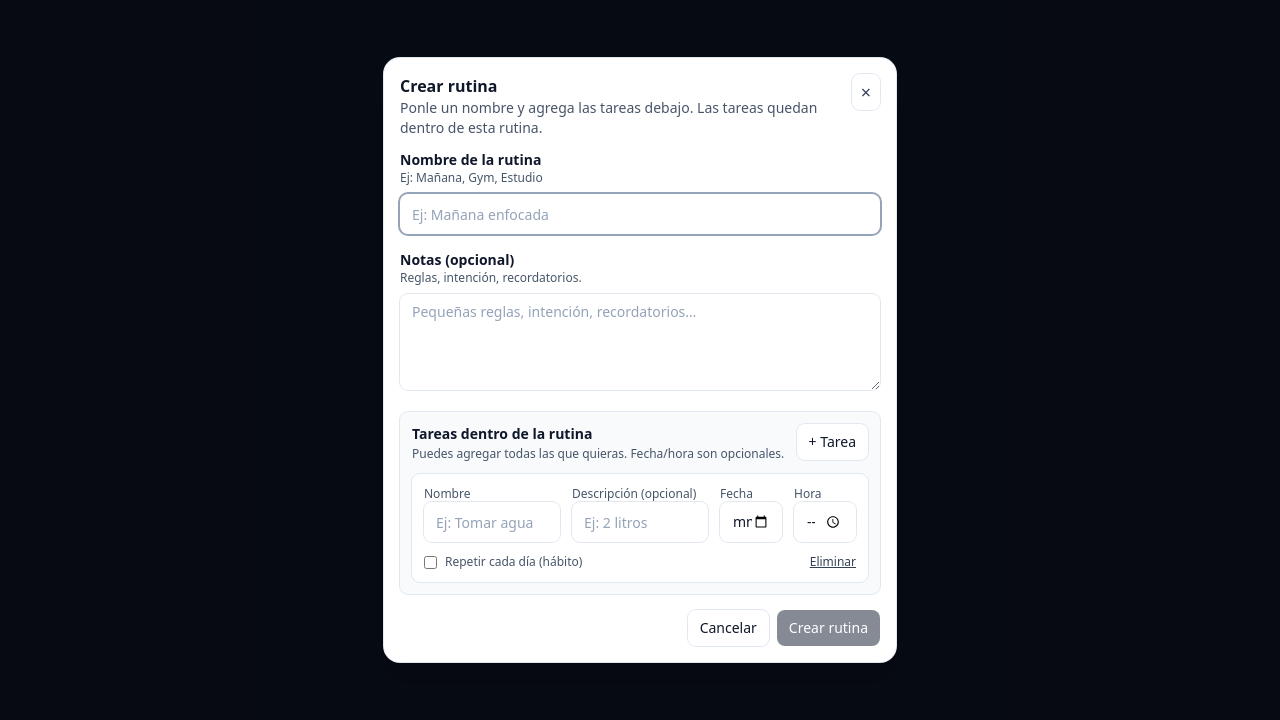
RoutineWizardModal › shows the specific error message when create fails with a real Error
The image size is (1280, 720).
Type "Mi rutina" into the field with placeholder "Ej: Mañana enfocada".
click(640, 214); type("Mi rutina")  # box [400,194,880,234]
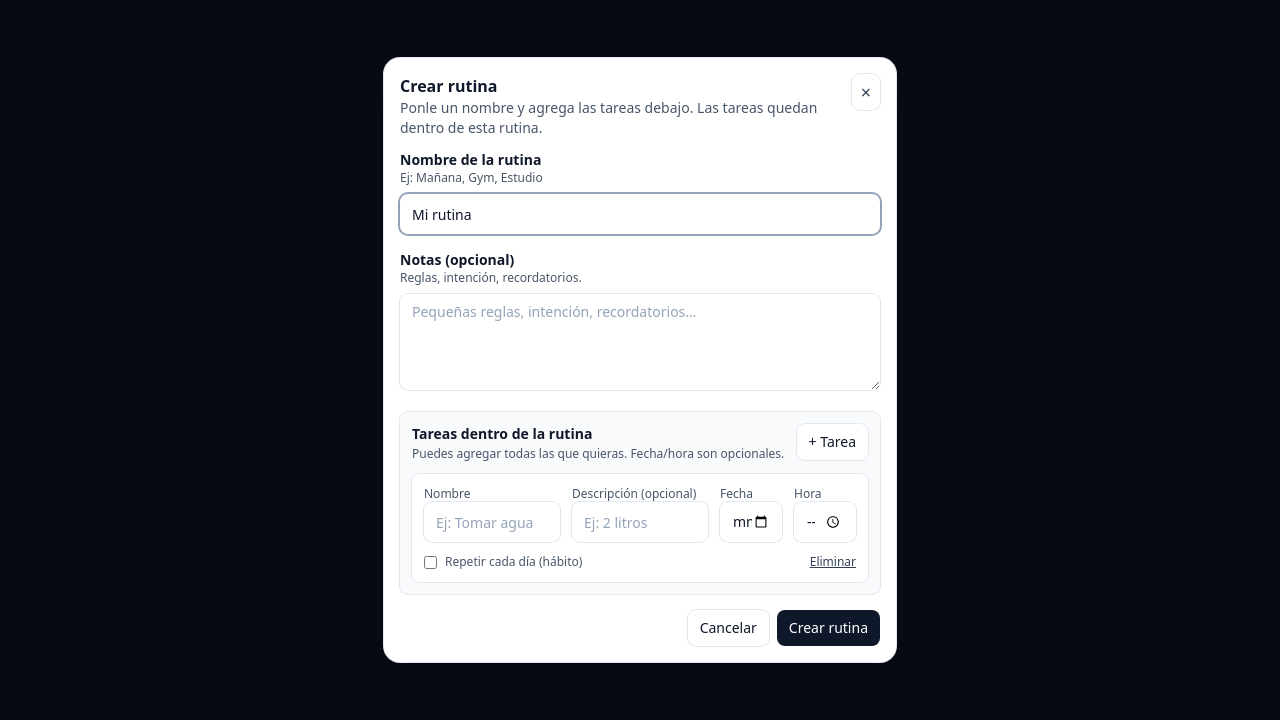
Click the button "Crear rutina".
click(828, 628)  # box [777,610,880,646]
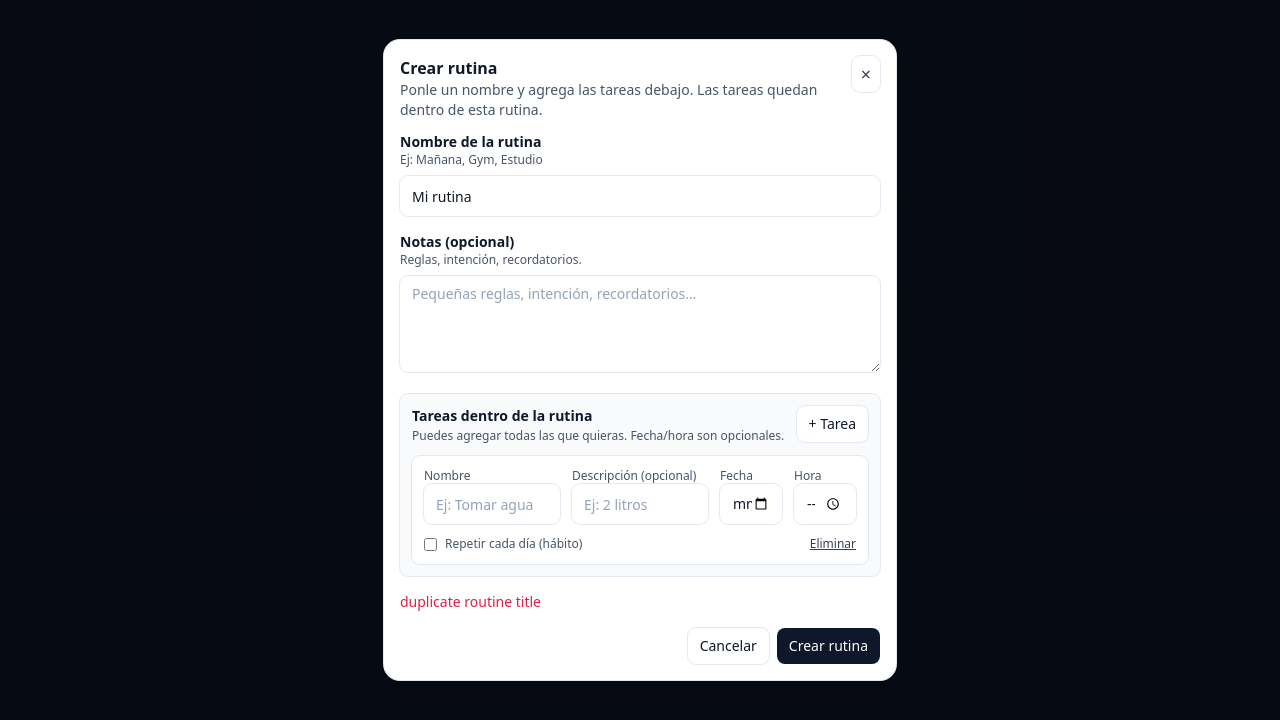
Check: the text "duplicate routine title" is shown, box [400,592,541,611]
